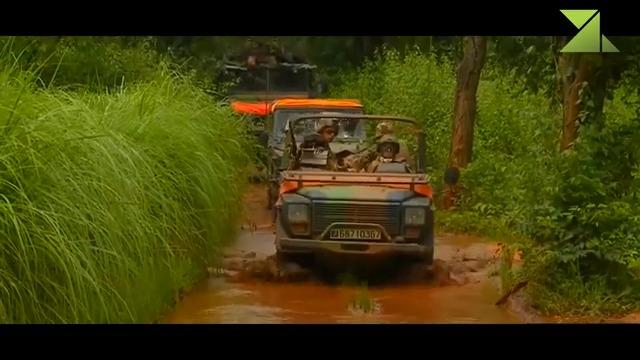MIL_HMMWV: (260, 110, 434, 280), (360, 133, 410, 174), (301, 114, 340, 152)
